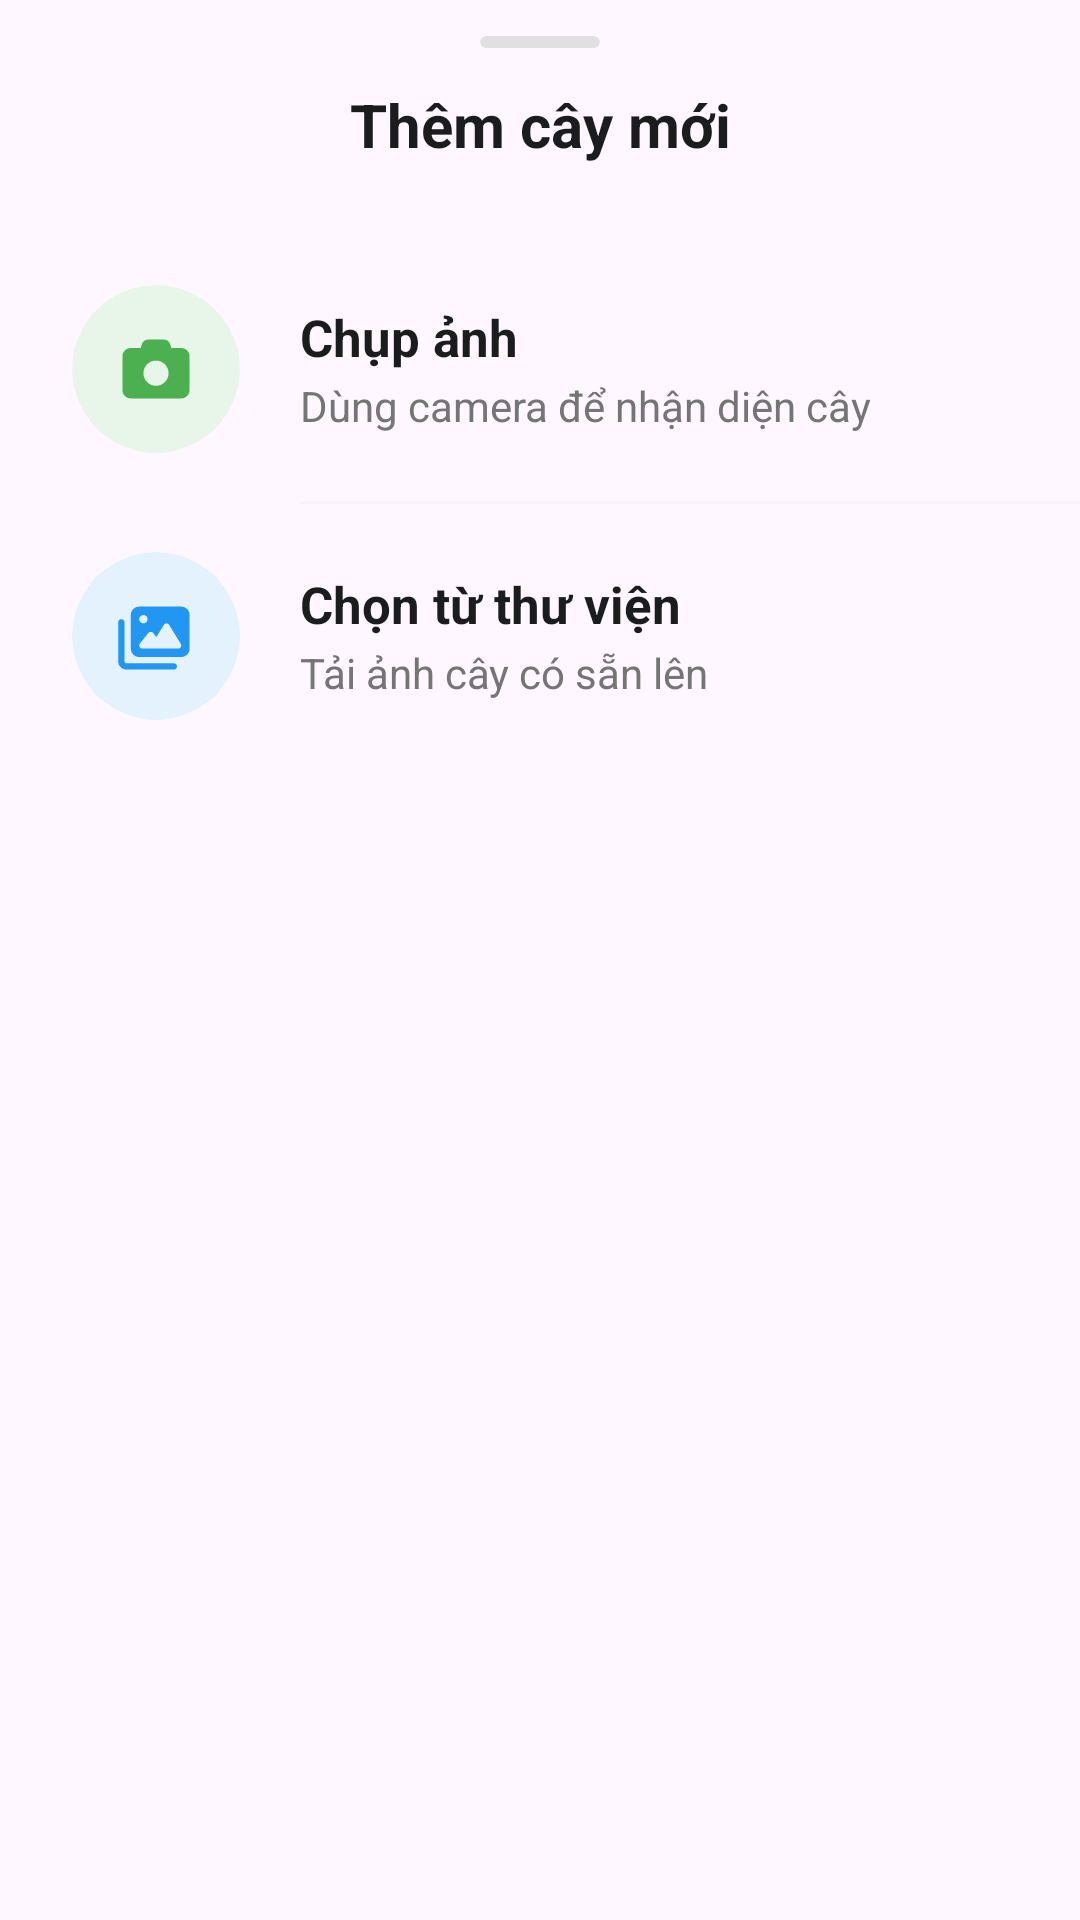

Where icons sit on this 1080 × 1920 app screen, as (x1, y1, x2, y2):
images full: (118, 606, 190, 670)
